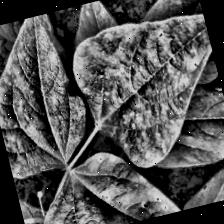Bean Rust: (63, 0, 224, 171), (29, 127, 208, 224), (0, 12, 86, 180)
